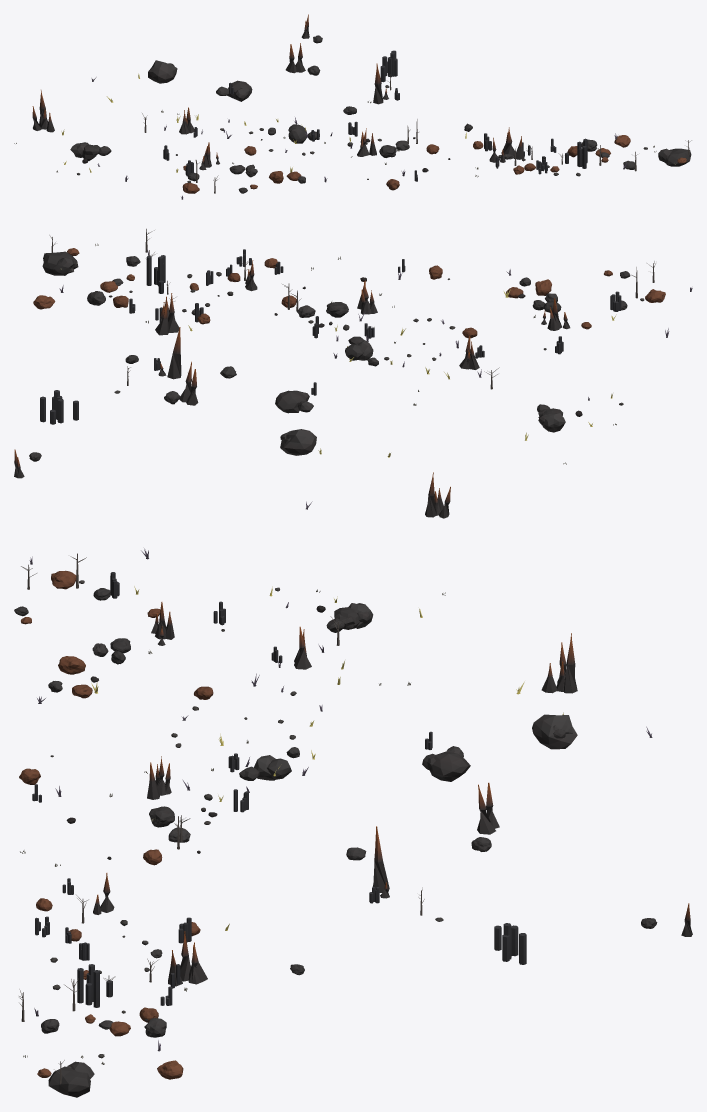
Rendered from ash_land_scatter_c18_27.glb.
3 renders of one model, top to bottom at view 1: azimuth 30°, elevation 25°; view 2: azimuth 150°, elevation 25°; view 3: azimuth 270°, elevation 25°, orthographic. The views are drawn at different scales.
Visible parts, largest first — view 1: ash_land_scatter_c18_27; view 2: ash_land_scatter_c18_27; view 3: ash_land_scatter_c18_27.
Boxes of the visible parts, bbox=[...] form: ash_land_scatter_c18_27: bbox=[14, 14, 691, 199]; ash_land_scatter_c18_27: bbox=[14, 228, 692, 518]; ash_land_scatter_c18_27: bbox=[14, 548, 692, 1097].
Bounding box in the file's own units: 222 × 46.44 × 154.
